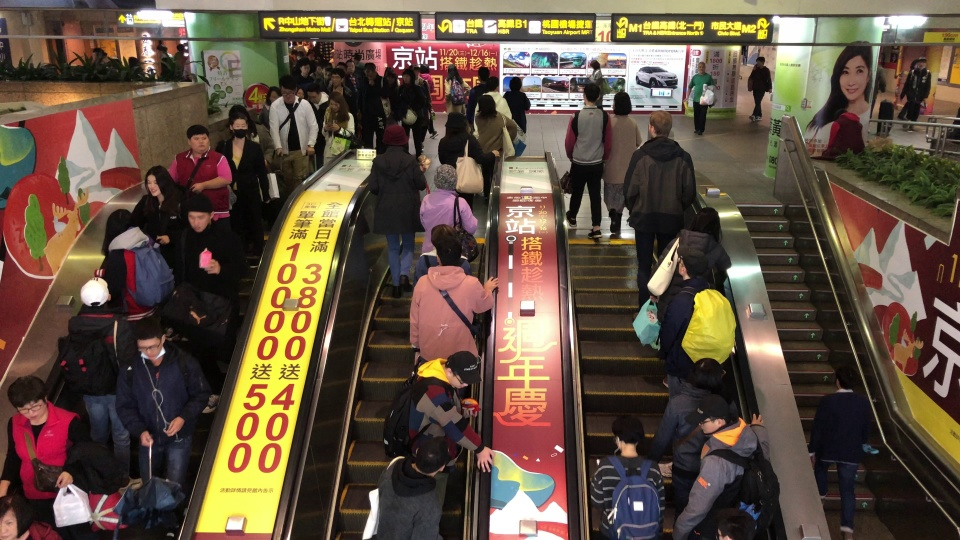person_head: (5, 374, 49, 419), (99, 209, 136, 251), (0, 494, 33, 540), (413, 437, 448, 479), (715, 507, 756, 539), (134, 316, 165, 358), (687, 357, 723, 392), (695, 395, 729, 432), (609, 413, 643, 449), (444, 350, 475, 389), (186, 194, 214, 233), (78, 278, 111, 308), (677, 248, 707, 279), (434, 236, 463, 268), (689, 205, 720, 234), (144, 165, 171, 197), (185, 123, 211, 154), (431, 162, 458, 191), (647, 108, 673, 138), (429, 224, 457, 248), (228, 105, 253, 128), (833, 366, 858, 388), (612, 90, 633, 116), (279, 74, 297, 101), (227, 111, 247, 135), (581, 81, 600, 106), (444, 111, 466, 132), (476, 94, 495, 115), (328, 91, 344, 112), (306, 82, 321, 102), (266, 85, 281, 104), (91, 46, 108, 62), (330, 69, 345, 87), (363, 61, 377, 80), (485, 76, 500, 93), (477, 65, 491, 83), (509, 76, 522, 92), (402, 69, 416, 83), (299, 61, 311, 75), (296, 86, 308, 100), (833, 108, 847, 120), (411, 64, 420, 79), (345, 60, 355, 73), (386, 71, 396, 84), (446, 63, 456, 76), (755, 55, 766, 66), (589, 59, 600, 69), (155, 44, 167, 53), (697, 60, 706, 72), (918, 56, 927, 68), (315, 61, 322, 74), (176, 43, 184, 54), (352, 53, 361, 62), (296, 49, 303, 59), (292, 49, 297, 58), (297, 40, 304, 46), (330, 49, 334, 58)
person_vbox: (645, 247, 737, 482), (113, 316, 209, 536), (381, 348, 494, 508), (58, 276, 137, 492), (622, 108, 697, 324), (669, 397, 782, 540), (645, 205, 732, 388), (645, 356, 732, 526), (179, 194, 241, 416), (0, 373, 83, 521), (407, 236, 498, 369), (806, 365, 870, 540), (92, 207, 174, 324), (590, 413, 666, 539), (213, 111, 270, 271), (564, 81, 614, 241), (375, 436, 448, 540), (434, 110, 501, 218), (167, 122, 233, 230), (268, 74, 319, 191), (417, 162, 480, 256), (602, 91, 642, 236), (129, 164, 184, 266), (473, 92, 518, 199), (412, 224, 473, 290), (228, 104, 275, 171), (809, 108, 866, 163), (398, 68, 429, 161), (898, 55, 931, 133), (321, 91, 355, 165), (472, 76, 513, 136), (684, 61, 716, 136), (409, 64, 433, 153), (358, 61, 382, 148), (306, 81, 329, 171), (747, 54, 773, 124), (500, 76, 531, 133), (465, 66, 491, 129), (443, 63, 472, 114), (866, 63, 886, 133), (330, 69, 356, 118), (256, 86, 281, 124), (155, 44, 182, 78), (588, 59, 605, 105), (295, 61, 311, 82), (320, 40, 334, 62), (309, 61, 323, 78), (297, 40, 307, 53), (328, 50, 334, 66)
